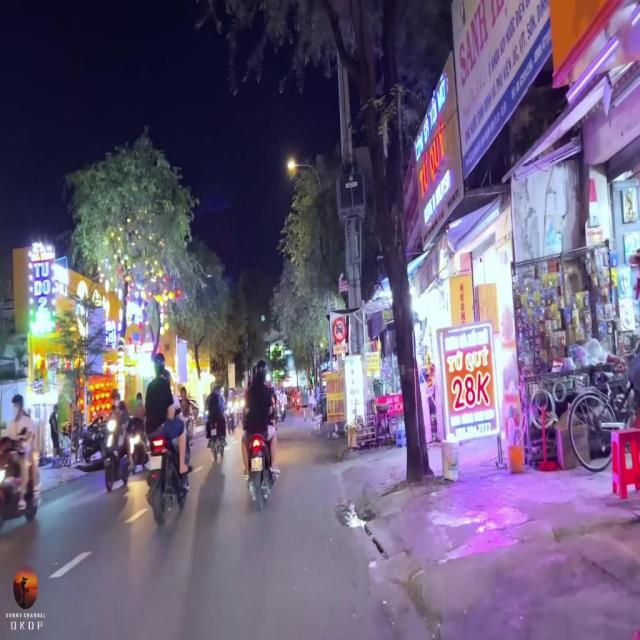cam_o_to: (332, 316, 347, 342)
khac: (332, 343, 348, 355)
